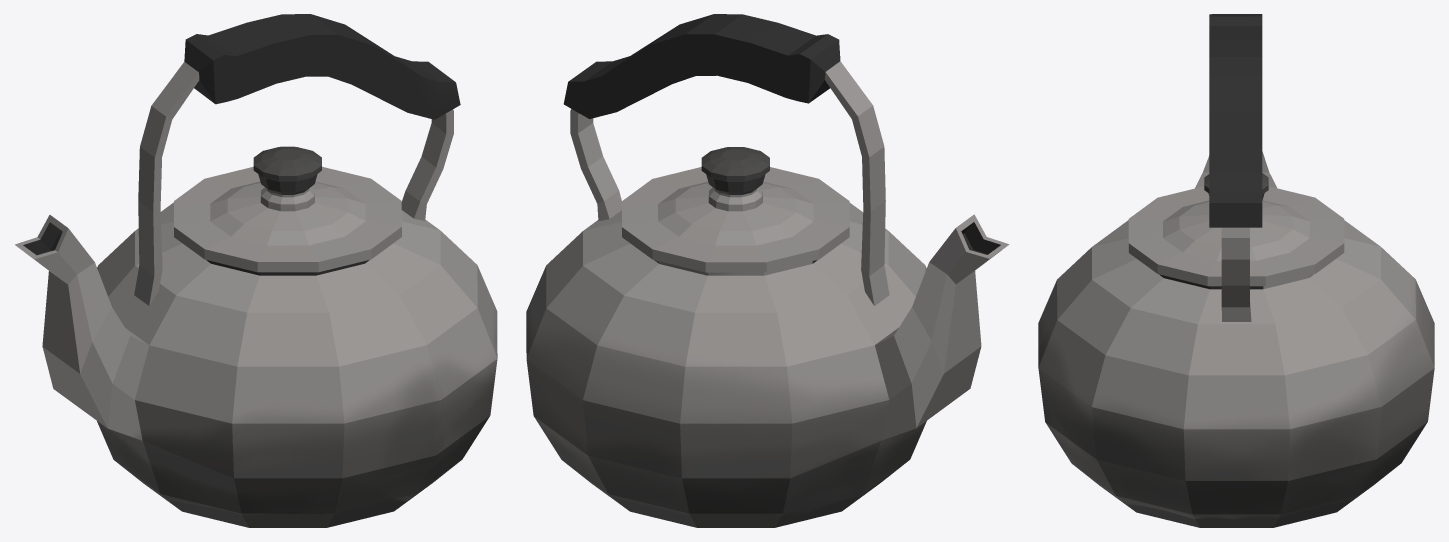
The model's file is Pava.fbx.
The picture shows the model from 3 angles, left to right: view 1: azimuth 30°, elevation 25°; view 2: azimuth 150°, elevation 25°; view 3: azimuth 270°, elevation 25°; orthographic projection. The views are drawn at different scales.
Visible parts, largest first — view 1: Cylinder; view 2: Cylinder; view 3: Cylinder.
Boxes of the visible parts, bbox=[...] form: Cylinder: bbox=[15, 14, 497, 527]; Cylinder: bbox=[526, 14, 1009, 527]; Cylinder: bbox=[1038, 14, 1434, 527].
Bounding box in the file's own units: 275 × 261 × 225.
